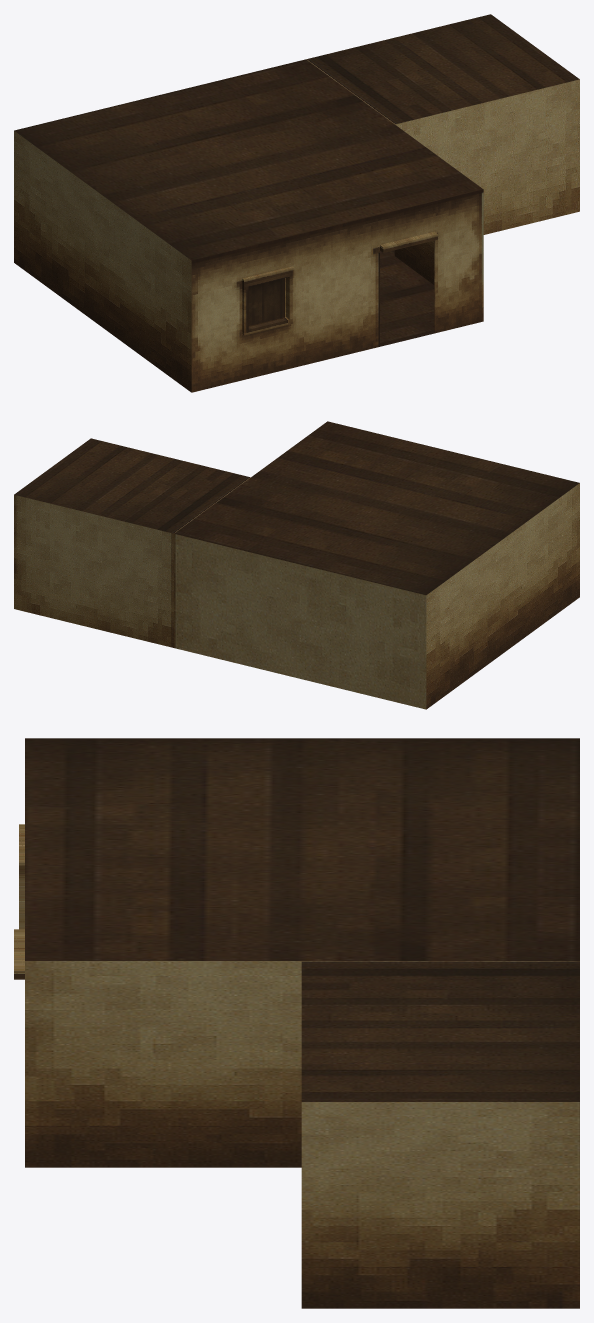
The model's file is l_house_No_Door.obj.
3 views of the same model, one above another, from view 1: azimuth 30°, elevation 25°; view 2: azimuth 150°, elevation 25°; view 3: azimuth 270°, elevation 25° (orthographic). The views are drawn at different scales.
Visible parts, largest first — view 1: Cube; view 2: Cube; view 3: Cube.
Part boxes in pixels (x1,y1,x2,y2): Cube: (14, 14, 579, 392); Cube: (14, 421, 579, 709); Cube: (14, 738, 579, 1308).
Size of the model in its own units: 6.1 by 1.62 by 4.01.
